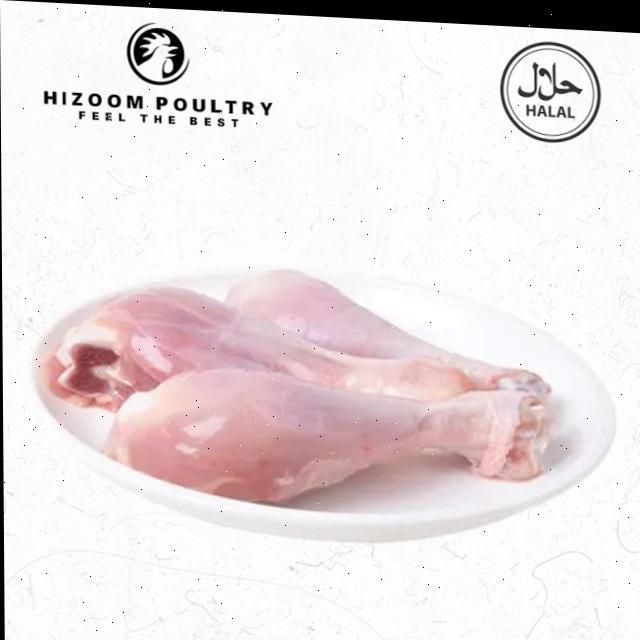leg: (109, 364, 548, 511), (54, 278, 467, 432), (228, 258, 548, 403)
